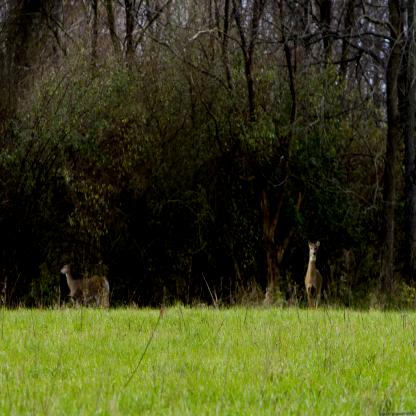Deer: (60, 264, 109, 308), (304, 238, 324, 310)
